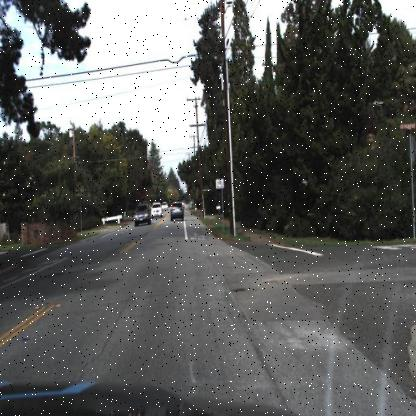car: (131, 202, 150, 226), (169, 200, 186, 223), (150, 199, 162, 220)
